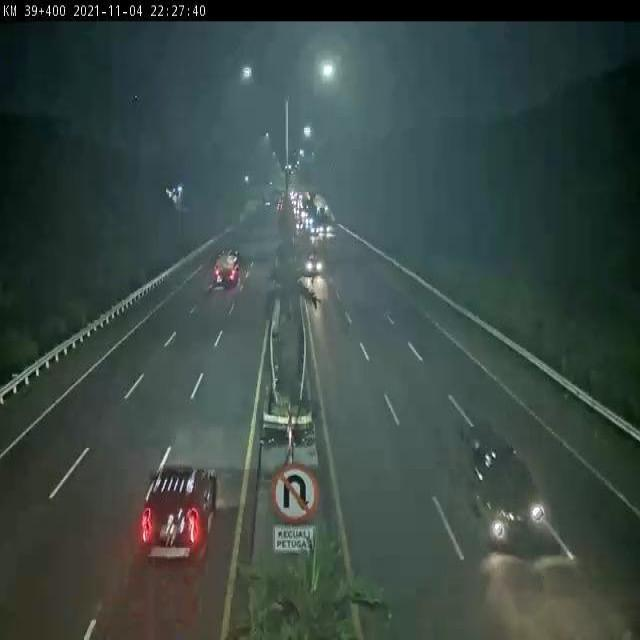car: (466, 430, 547, 550), (139, 464, 215, 556), (306, 249, 321, 275)
truck-l-: (214, 244, 240, 287)
